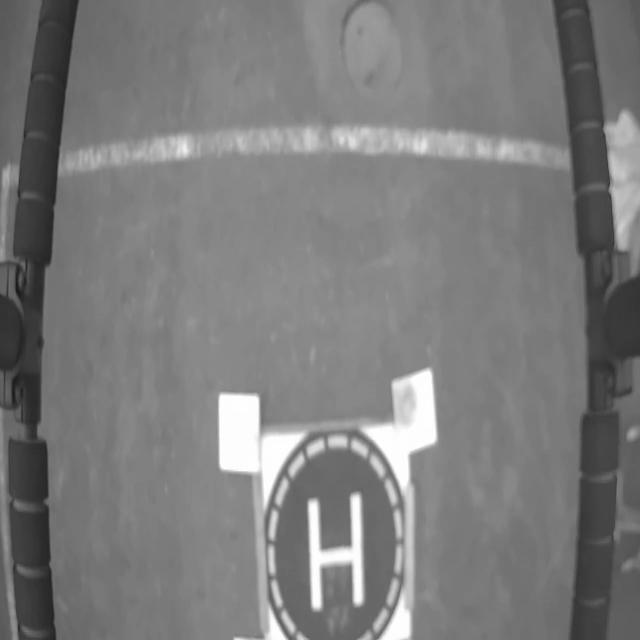Helipad: (308, 491, 365, 613)
